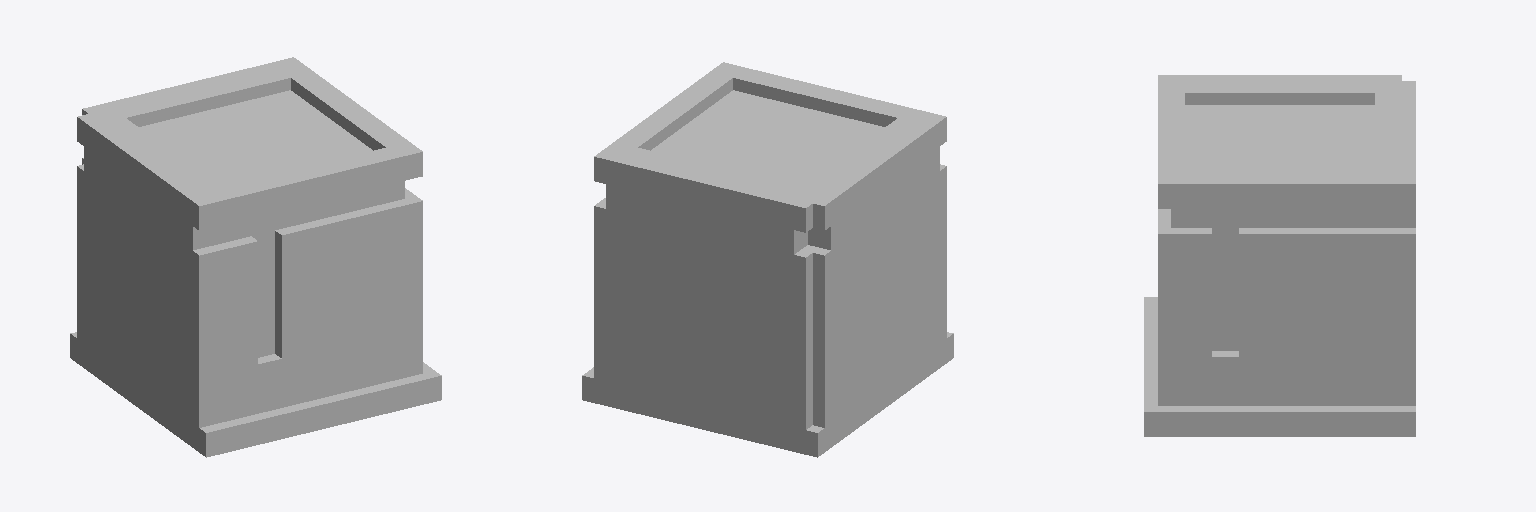
File: WallCorner_Version_01.obj
The picture shows the model from 3 angles: view 1: azimuth 30°, elevation 25°; view 2: azimuth 150°, elevation 25°; view 3: azimuth 270°, elevation 25°; orthographic projection.
Visible parts, largest first — view 1: WallCorner_Plane.001; view 2: WallCorner_Plane.001; view 3: WallCorner_Plane.001.
Part boxes in pixels (left/top/right/bottom): WallCorner_Plane.001: left=70, top=57, right=441, bottom=457; WallCorner_Plane.001: left=582, top=62, right=953, bottom=457; WallCorner_Plane.001: left=1144, top=75, right=1415, bottom=436.
Bounding box in the file's own units: 1 × 1 × 1.